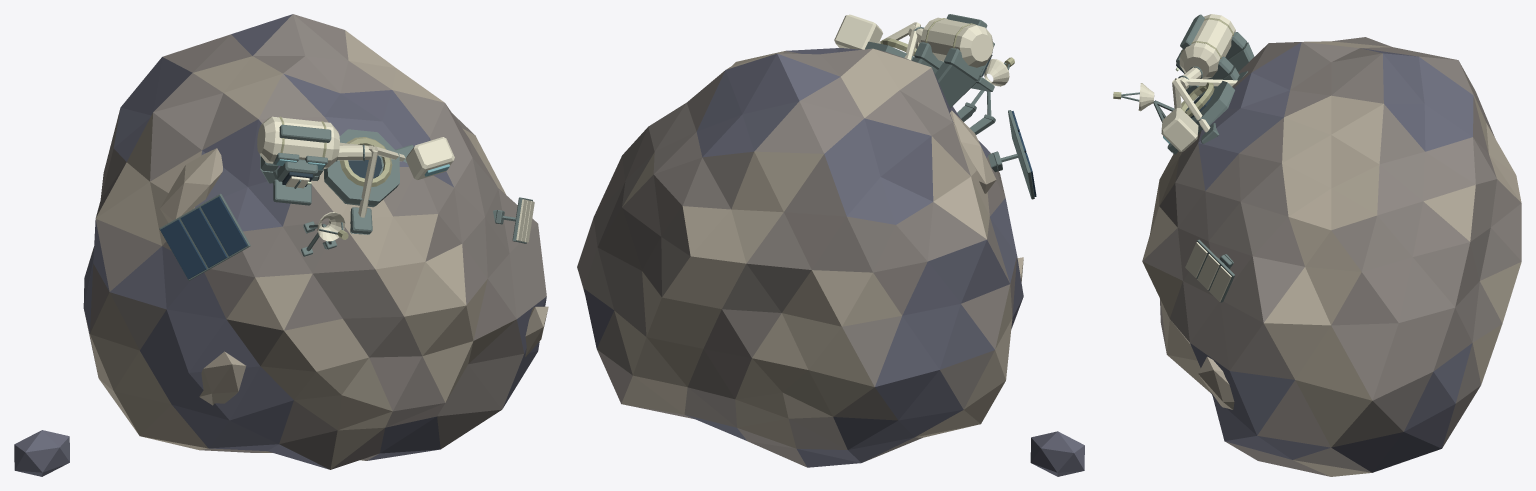
Rendered from asteroids.glb.
The picture shows the model from 3 angles, left to right: view 1: azimuth 30°, elevation 25°; view 2: azimuth 150°, elevation 25°; view 3: azimuth 270°, elevation 25°; orthographic projection. The views are drawn at different scales.
Visible parts, largest first — view 1: S3_asteroids • modeled surfaces; view 2: S3_asteroids • modeled surfaces; view 3: S3_asteroids • modeled surfaces.
Part boxes in pixels (x1,y1,x2,y2): S3_asteroids • modeled surfaces: [14, 14, 548, 476]; S3_asteroids • modeled surfaces: [577, 14, 1084, 476]; S3_asteroids • modeled surfaces: [1113, 14, 1521, 476].
Bounding box in the file's own units: 1.9 × 1.5 × 1.44.
